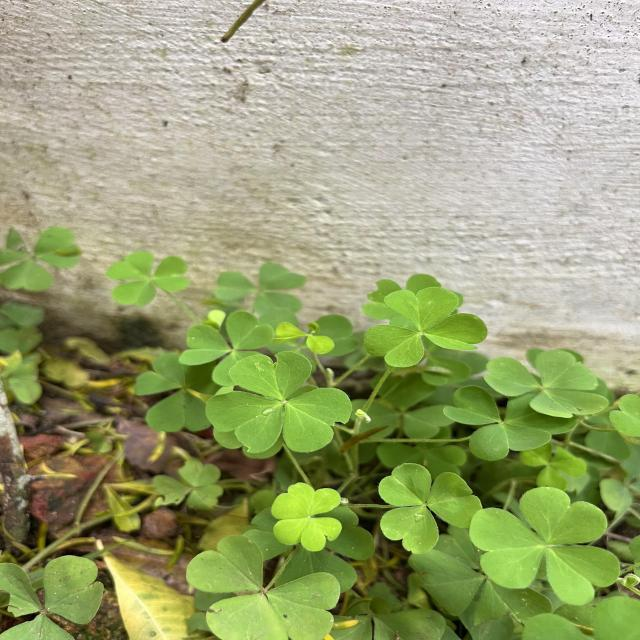Oxalis corniculata: (468, 484, 622, 608), (184, 533, 344, 640), (205, 350, 353, 454), (360, 285, 490, 368), (376, 461, 483, 556), (0, 552, 107, 640), (484, 348, 612, 420), (270, 480, 345, 553), (106, 250, 192, 308)
